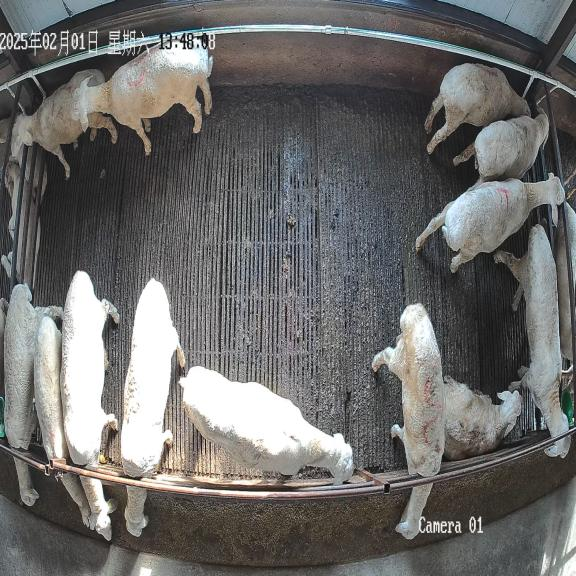drinking: (425, 63, 530, 154), (453, 109, 549, 181)
eating: (494, 225, 571, 457), (371, 303, 445, 540), (121, 279, 185, 537), (60, 271, 119, 540), (3, 284, 62, 506), (34, 314, 91, 527)
lying: (443, 376, 521, 460)
stand: (180, 366, 354, 485), (71, 46, 213, 154), (416, 174, 565, 273), (11, 69, 117, 178)
